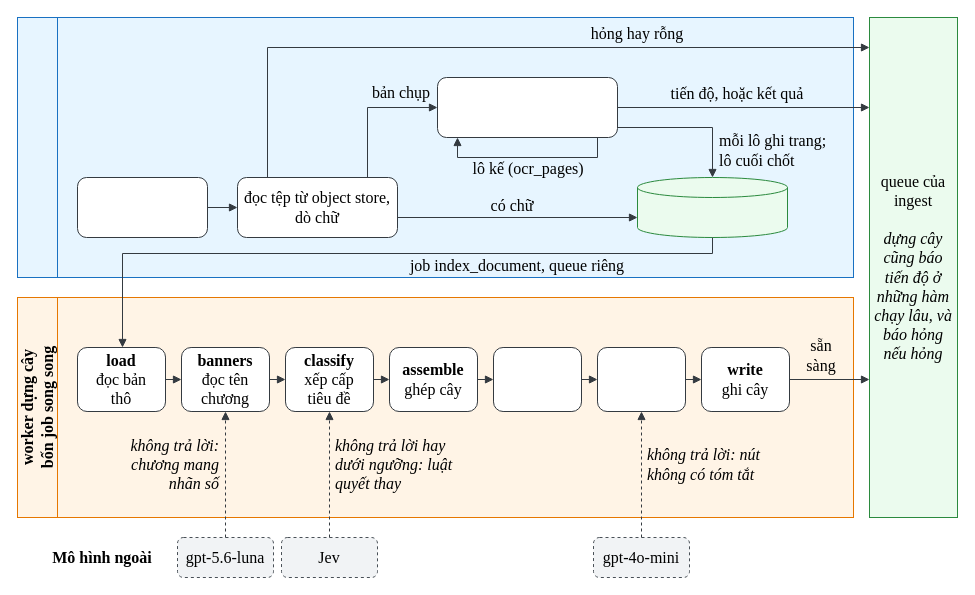
Some shapes in this 975 by 595 pixel diagram are drawn without their labels. Each missing label, with the centre of its shape:
"bản thô (content store)" goes at point (712, 207).
"chunk cắt chunk" goes at point (537, 379).
"job probe_document từ backend" goes at point (142, 207).
"OCR một lô: tối đa 10 trang hay 90 giây" goes at point (527, 107).
"summarise tóm tắt nút" goes at point (641, 379).
"worker đọc tệp một job một lúc" goes at point (37, 147).
